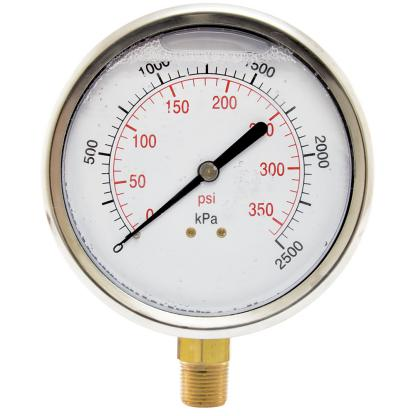needle: (122, 173, 207, 243)
